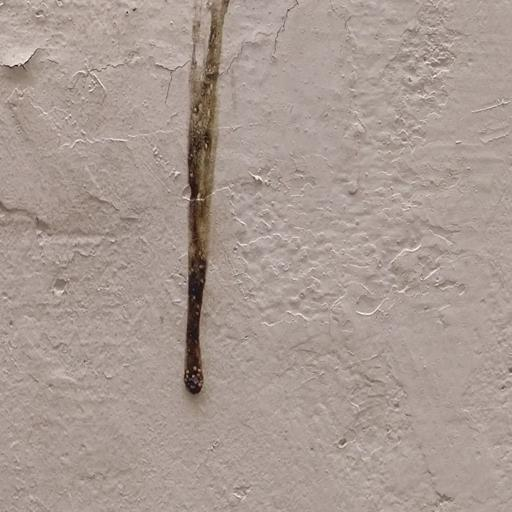stain: (131, 6, 271, 415)
